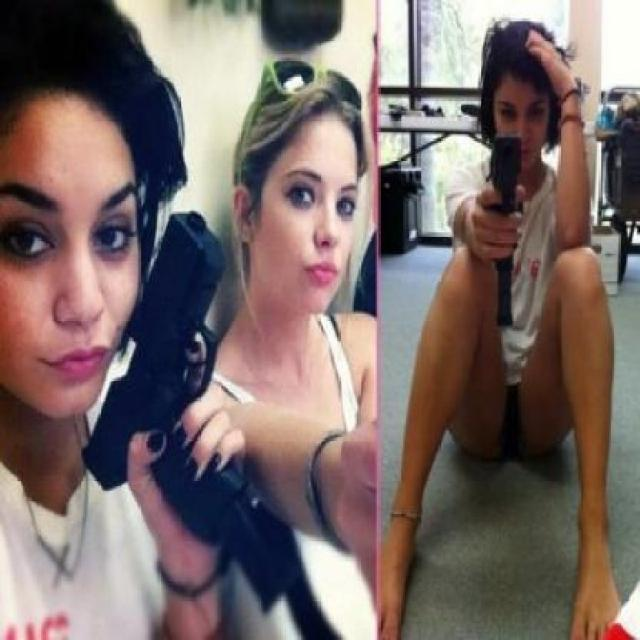gun: (116, 160, 276, 588)
